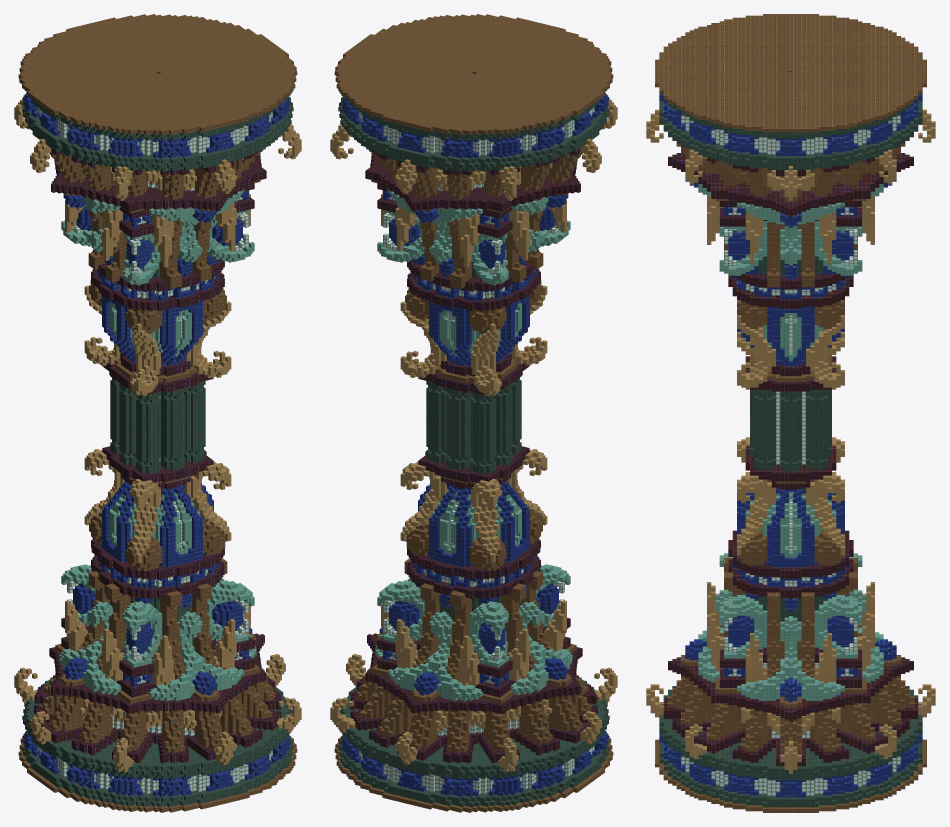
File: pillar_175_height.glb
3 views of the same model, side by side, from view 1: azimuth 30°, elevation 25°; view 2: azimuth 150°, elevation 25°; view 3: azimuth 270°, elevation 25° (orthographic).
Visible parts, largest first — view 1: Object_9, Object_8, Object_5, Object_2, Object_3, Object_6, Object_10, Object_7, Object_4; view 2: Object_9, Object_8, Object_5, Object_2, Object_3, Object_6, Object_10, Object_7, Object_4; view 3: Object_8, Object_5, Object_2, Object_3, Object_9, Object_6, Object_10, Object_7, Object_4.
Boxes of the visible parts, x1,y1,x2,y2 form: Object_9: (14, 22, 236, 812); Object_8: (18, 14, 301, 811); Object_5: (22, 90, 293, 807); Object_2: (23, 91, 292, 796); Object_3: (34, 141, 281, 763); Object_6: (59, 188, 250, 701); Object_10: (96, 15, 258, 802); Object_7: (37, 107, 272, 794); Object_4: (179, 154, 252, 754); Object_9: (395, 23, 617, 812); Object_8: (330, 14, 613, 812); Object_5: (338, 90, 609, 807); Object_2: (339, 91, 608, 796); Object_3: (350, 141, 597, 763); Object_6: (377, 188, 572, 701); Object_10: (369, 16, 539, 801); Object_7: (359, 107, 594, 794); Object_4: (378, 154, 452, 754); Object_8: (659, 14, 918, 812); Object_5: (659, 100, 922, 807); Object_2: (659, 94, 922, 797); Object_3: (663, 142, 918, 766); Object_9: (646, 37, 935, 754); Object_6: (698, 184, 883, 682); Object_10: (655, 72, 926, 774); Object_7: (681, 115, 900, 795); Object_4: (663, 160, 918, 731).
Bounding box in the file's own units: 67 × 175 × 67.
Materials: 1 (1 with a texture image).
